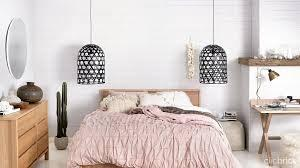bed: (78, 87, 226, 167)
light: (198, 0, 231, 87), (75, 0, 108, 85)
table: (0, 100, 46, 167), (252, 103, 300, 164)
